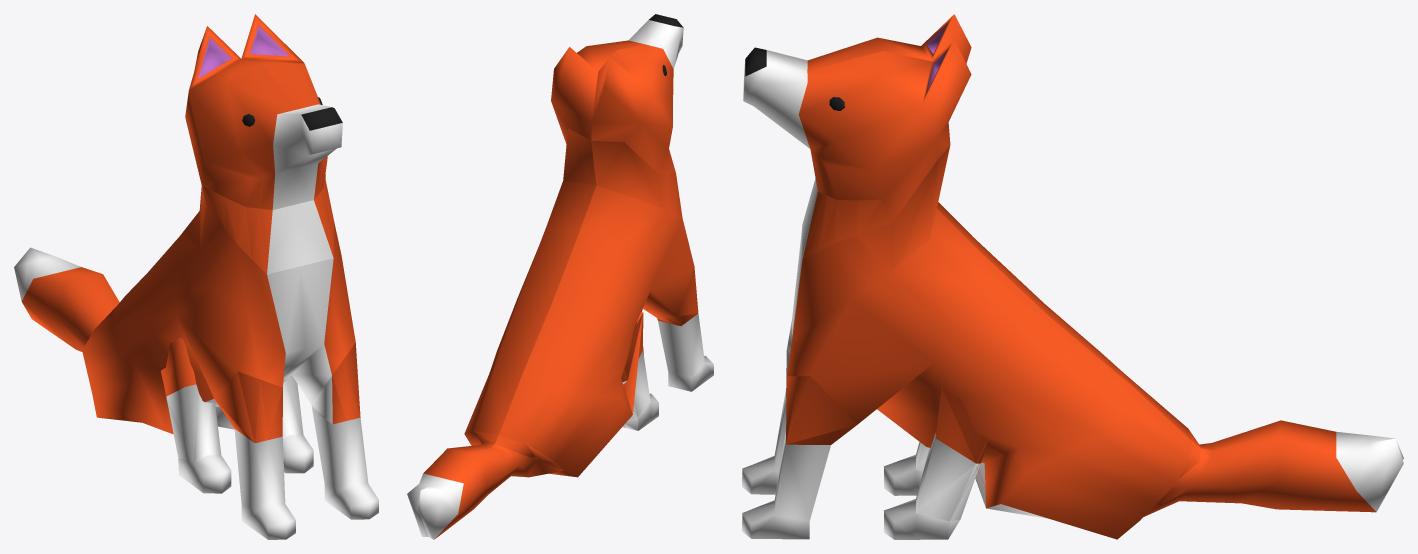
File: 3Ddog.glb
3 renders of one model, left to right at view 1: azimuth 30°, elevation 25°; view 2: azimuth 150°, elevation 25°; view 3: azimuth 270°, elevation 25°, orthographic. The views are drawn at different scales.
Parts seen in each view (by area): view 1: Fox_01_Cube.046; view 2: Fox_01_Cube.046; view 3: Fox_01_Cube.046.
Part boxes in pixels (x1=…): Fox_01_Cube.046: x1=14, y1=14, x2=378, y2=539; Fox_01_Cube.046: x1=407, y1=14, x2=713, y2=539; Fox_01_Cube.046: x1=742, y1=14, x2=1403, y2=539.
Bounding box in the file's own units: 1.28 × 3.81 × 4.62.
